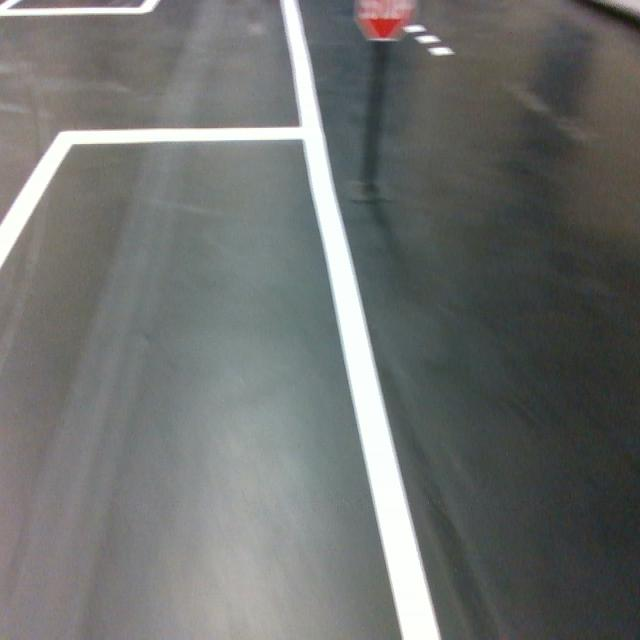stop-sign: (352, 0, 417, 42)
